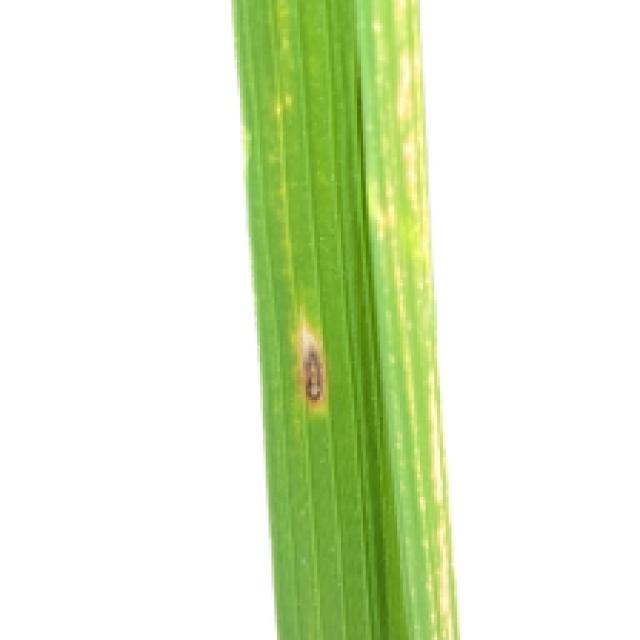Rice___Rice_Blast: (227, 0, 465, 637)
